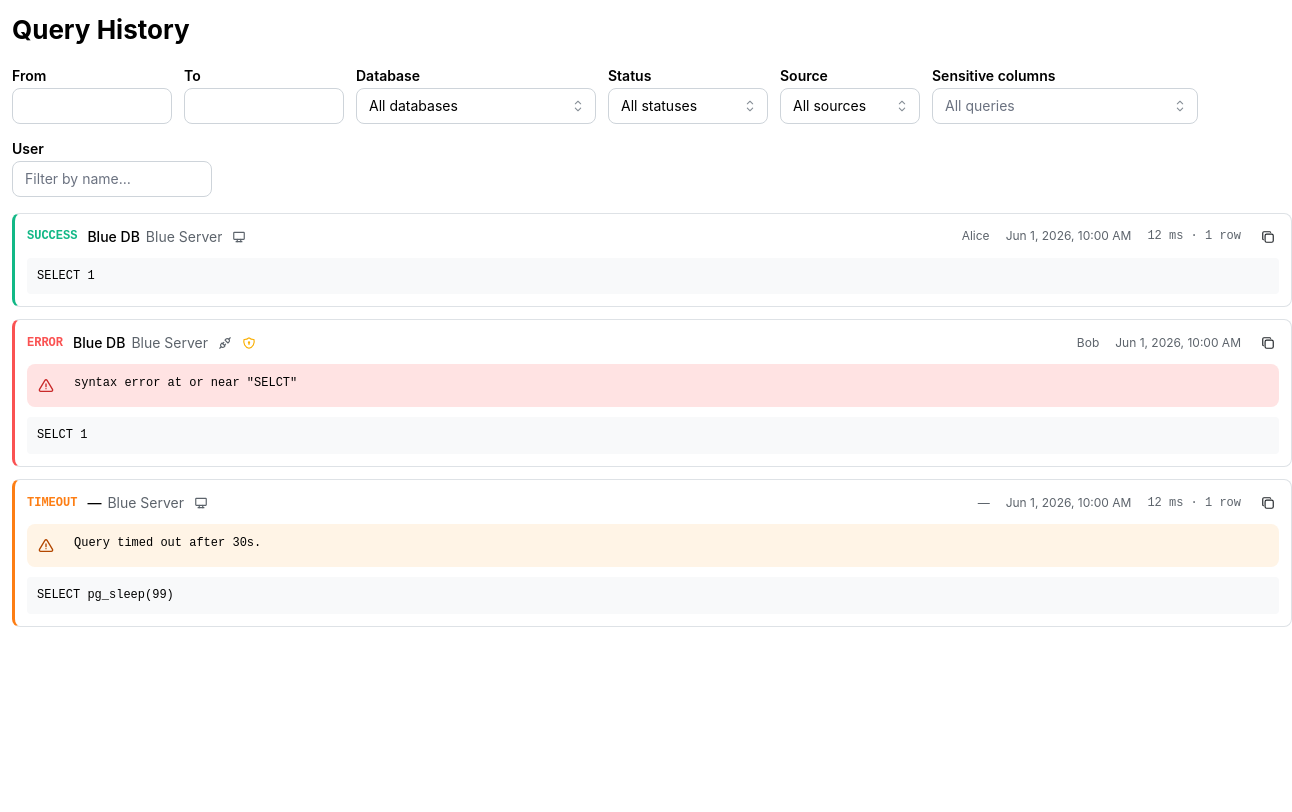
QueryHistoryPage › shows user names and filters by user name when query:audit is granted
Expected: the text "Alice" is shown, [962,228,990,245]
Type "bob" into the field labelled "User" at {"x": 112, "y": 179}, box [12,161,212,197]
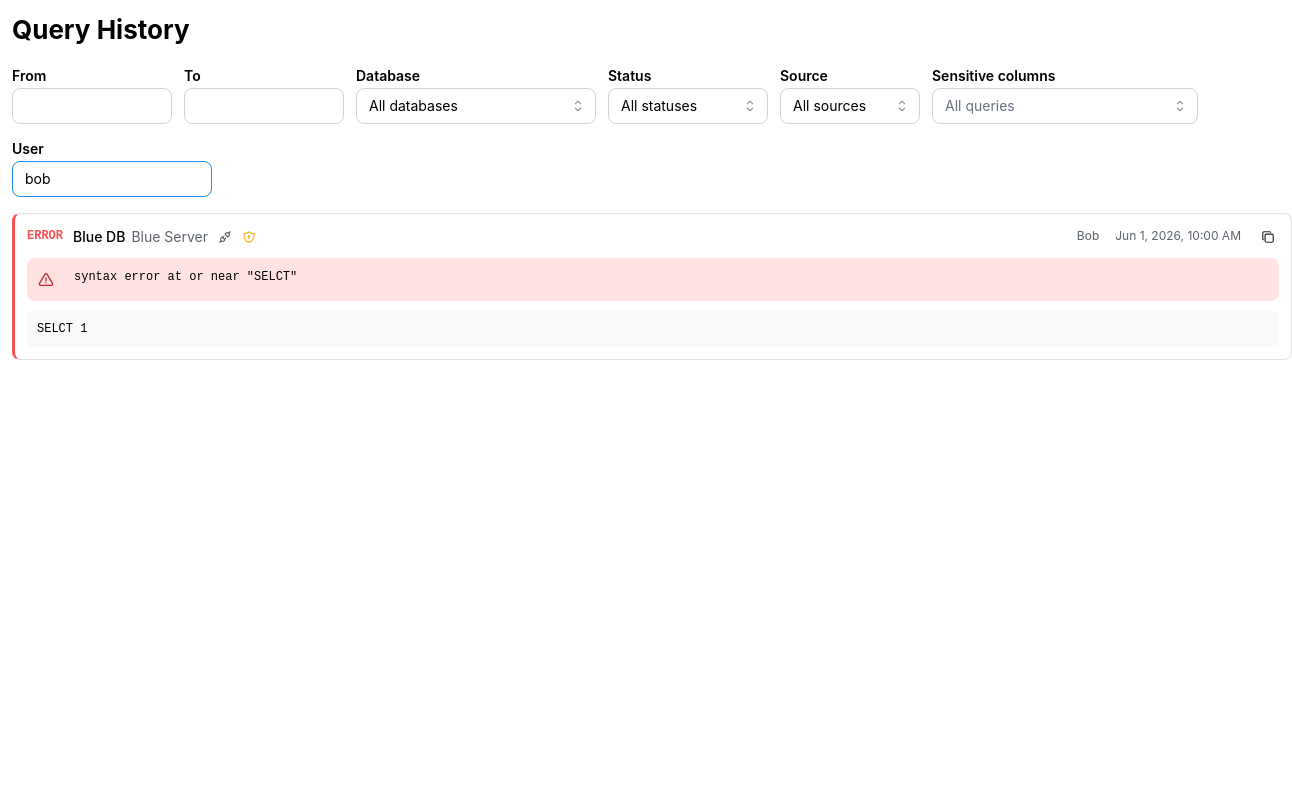
Expected: the text "Bob" is shown, [1077,228,1099,245]
Now the text "Alice" is gone
